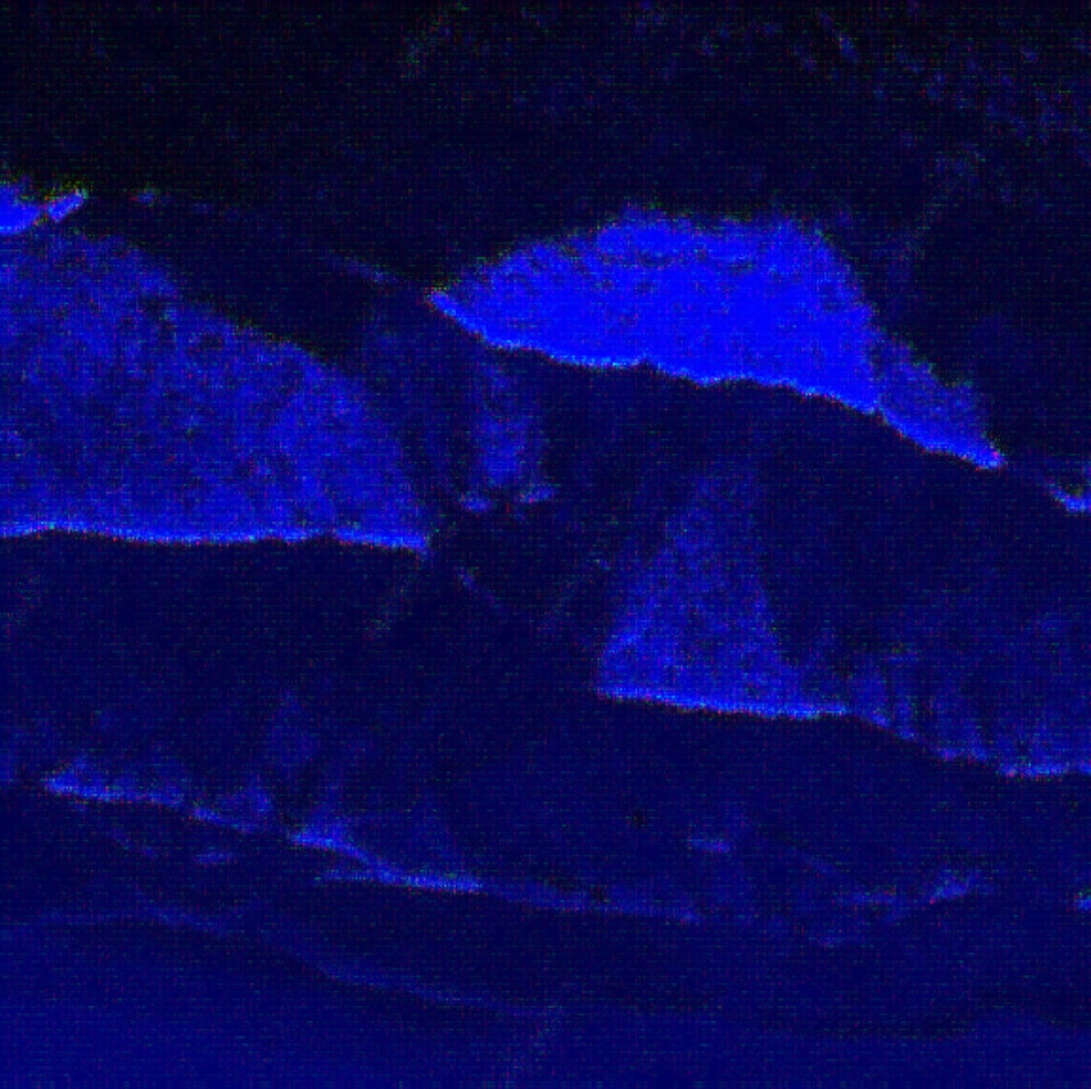rip_current: (311, 238, 784, 741)
